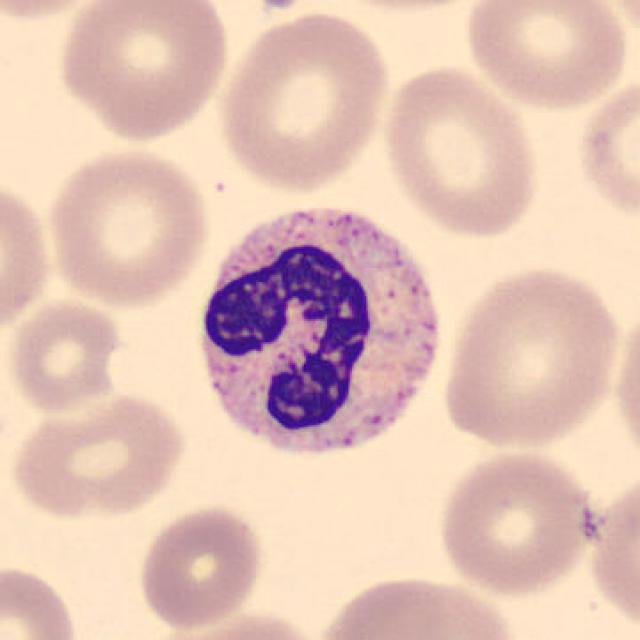Neutrophil: (188, 188, 457, 472)
Platelets: (252, 0, 306, 14)
RBC: (436, 261, 626, 453), (213, 9, 393, 197), (377, 62, 544, 242), (41, 143, 213, 310), (432, 444, 604, 600), (49, 0, 234, 145), (6, 384, 190, 524), (460, 0, 633, 113), (134, 501, 268, 631), (4, 295, 128, 416), (313, 571, 530, 640), (570, 70, 640, 230), (582, 464, 638, 638), (0, 173, 55, 342), (0, 560, 83, 640), (137, 606, 329, 640), (608, 296, 640, 473), (313, 0, 507, 16), (0, 0, 117, 24), (597, 0, 640, 46)
